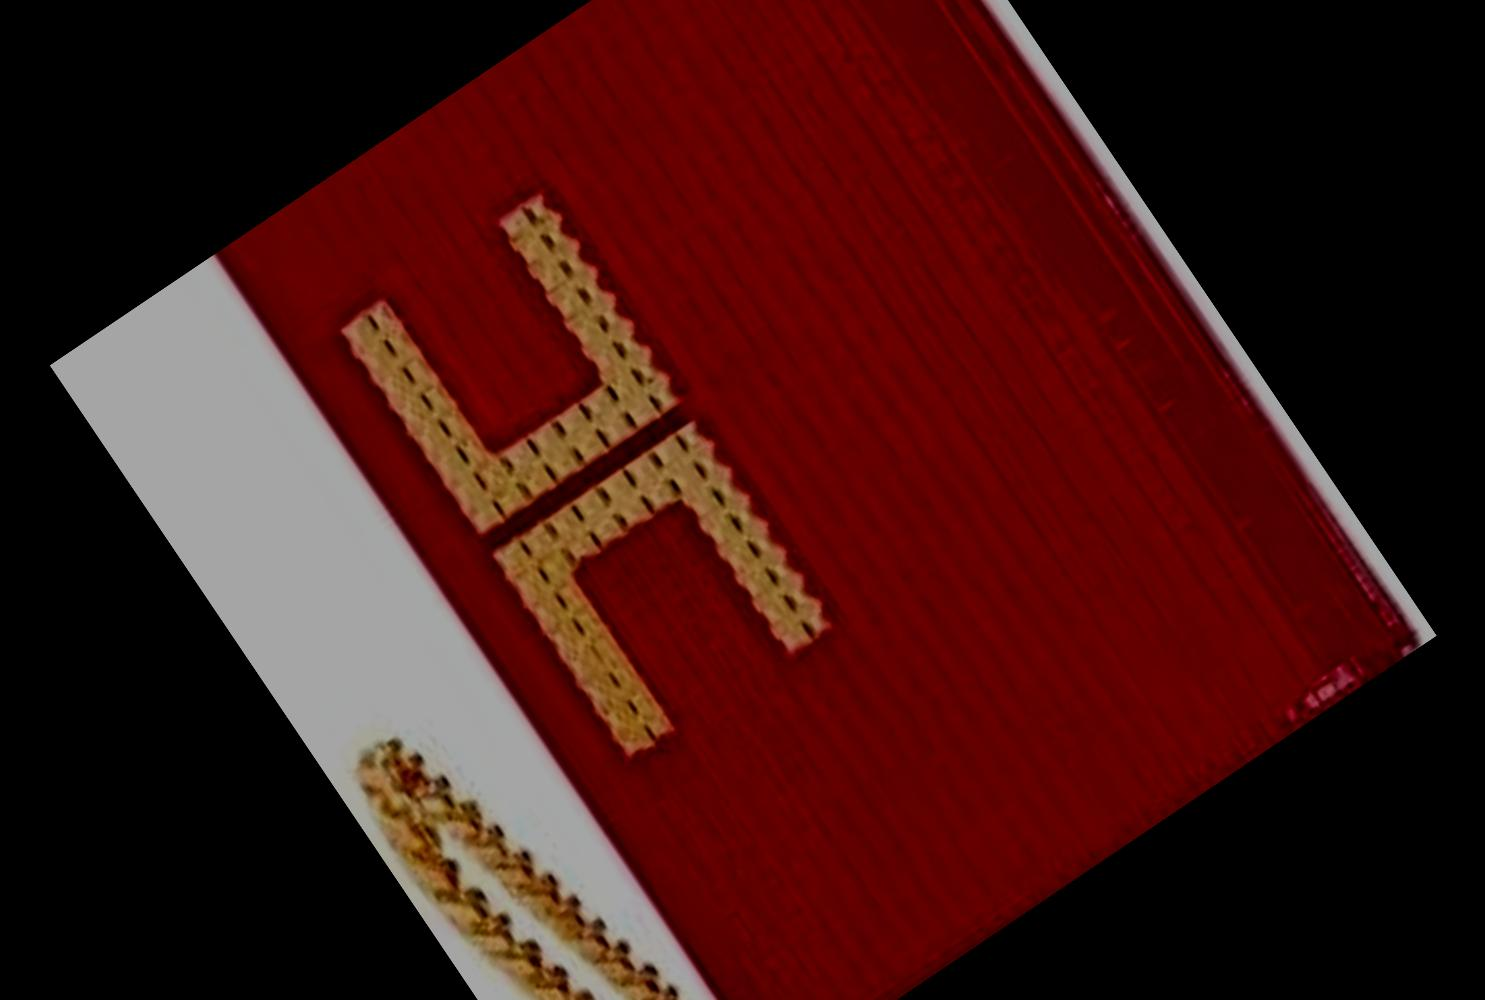ELISABETTA-FRANCHI: (321, 175, 859, 785)
